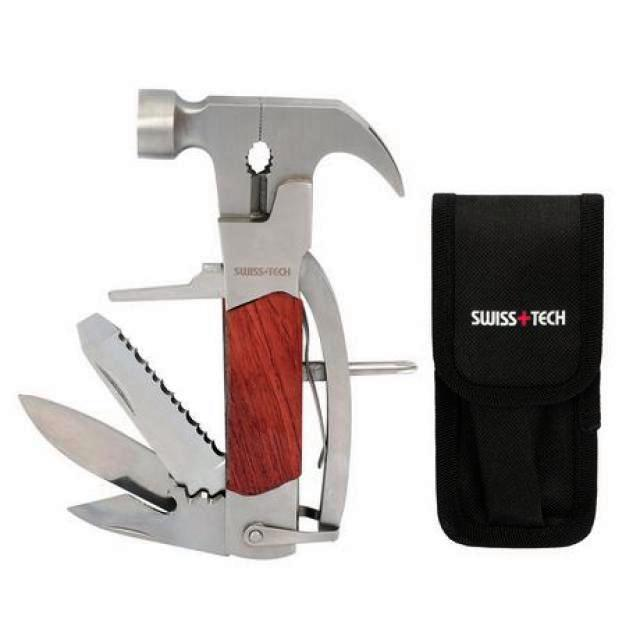hammer: (123, 57, 424, 566)
